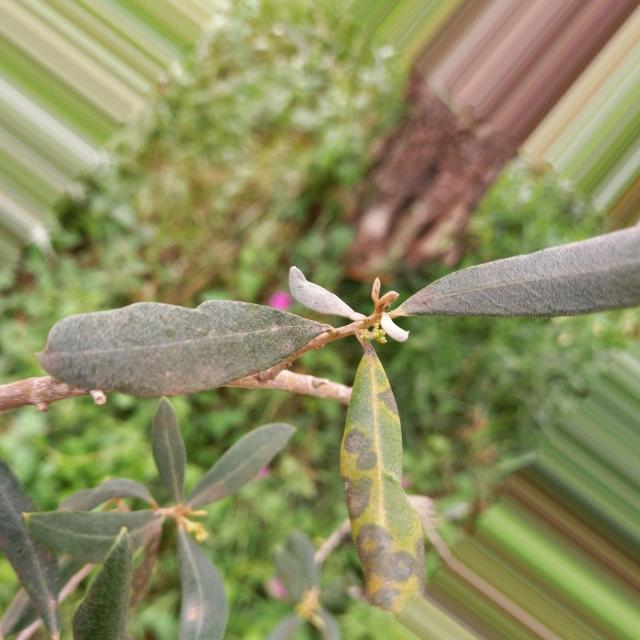Peacock Eye: (340, 344, 425, 620)
